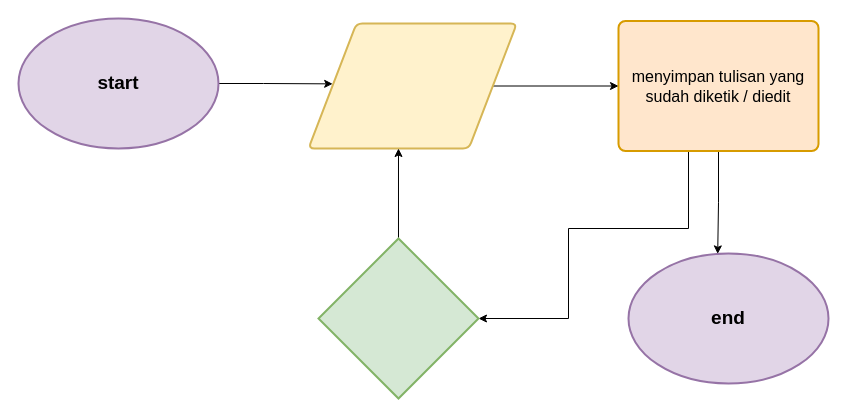
Some shapes in this 846 by 416 pixel diagram are drawn without their labels. Here are the shapes that lost their labels. From the top down, the centre of each, then its label:
At [412,85]: "mengetikkan sesuatu didalam aplikasi / mengedit teks".
At [398,318]: "masih akan mengedit teks".
